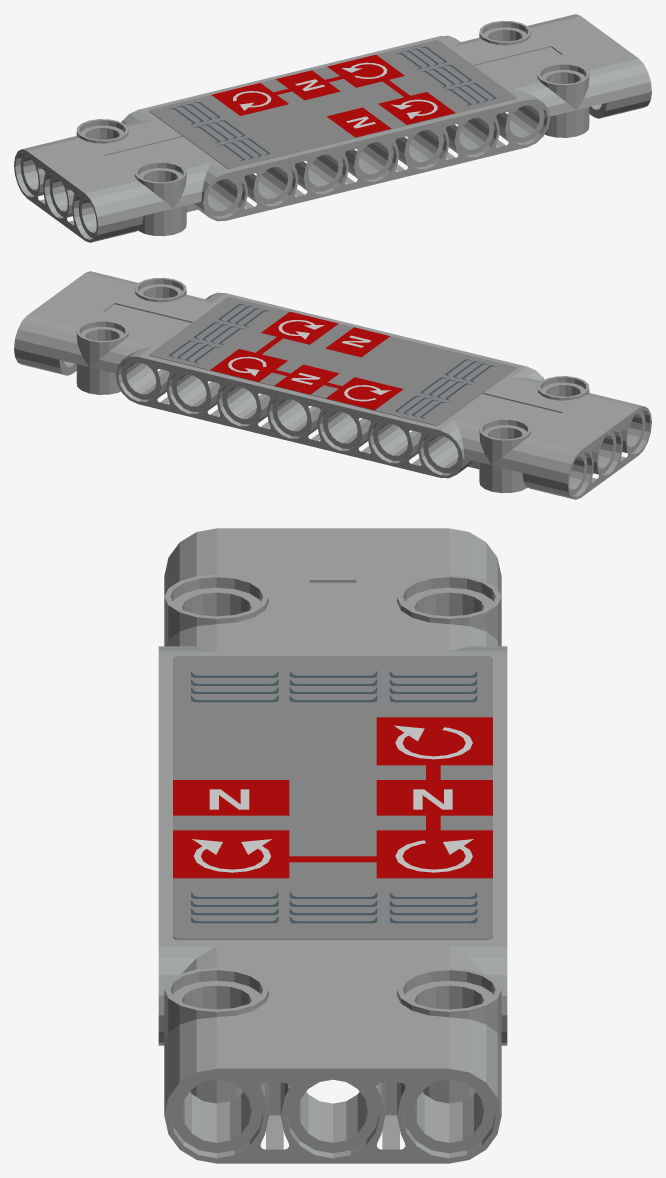
3 views of the same model, one above another, from view 1: azimuth 30°, elevation 25°; view 2: azimuth 150°, elevation 25°; view 3: azimuth 270°, elevation 25° (orthographic). The views are drawn at different scales.
Parts seen in each view (by area): view 1: world; view 2: world; view 3: world.
Part boxes in pixels (x1,y1,x2,y2): world: [14, 14, 651, 242]; world: [14, 271, 651, 499]; world: [158, 528, 507, 1163].
Size of the model in its own units: 0.088 by 0.008 by 0.024.
